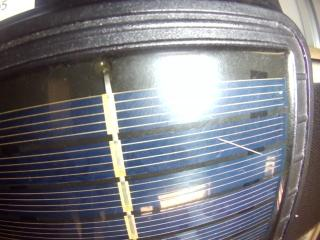crack: (216, 138, 264, 155)
solarboard: (0, 49, 288, 240)
